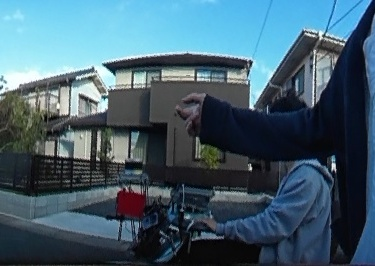person: (230, 92, 332, 266)
